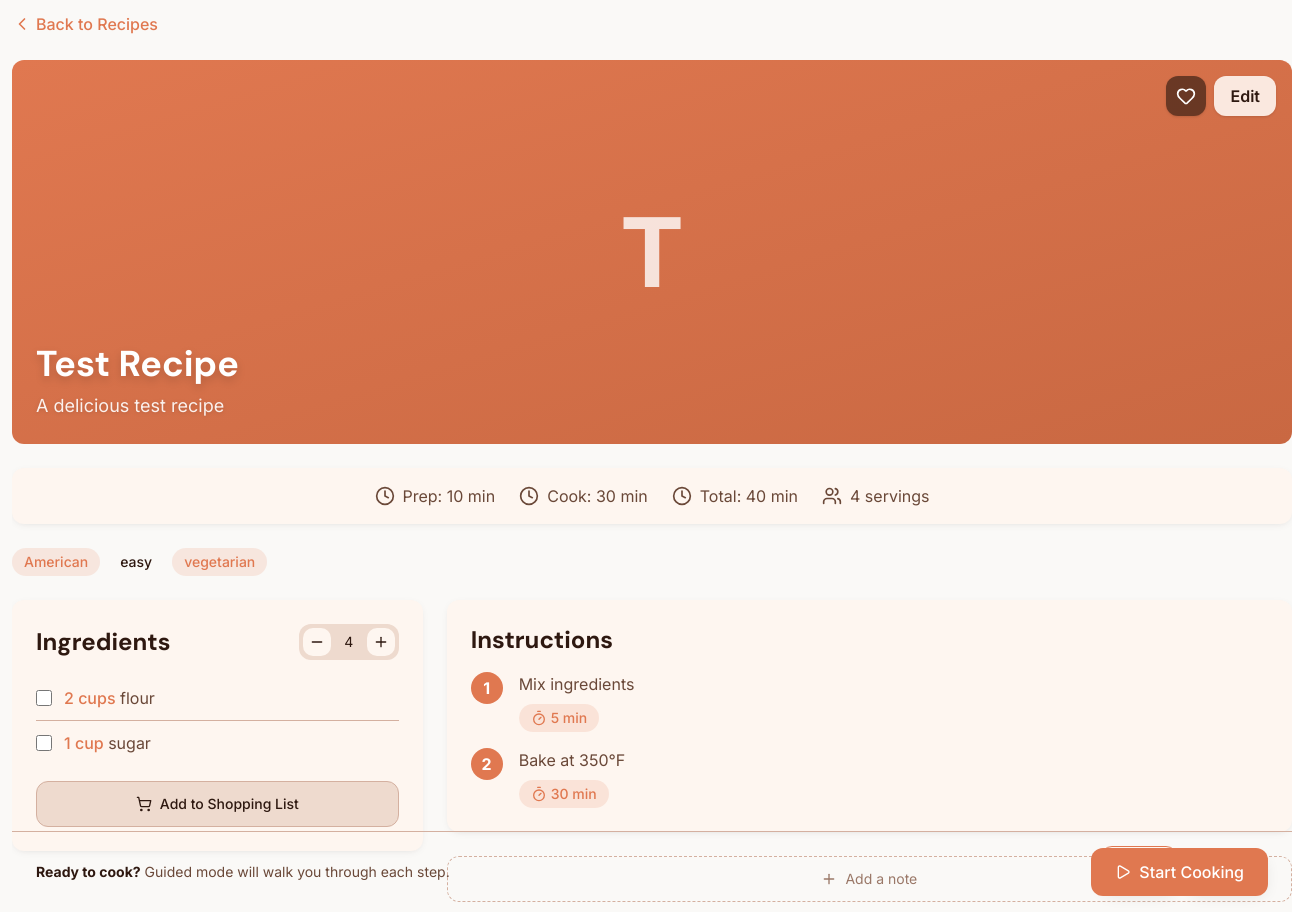
Test: RecipeDetailPage › Servings Adjuster › should increase servings when + button is clicked
Click the button named "increase servings" at x=381, y=642, box [367, 628, 395, 656]
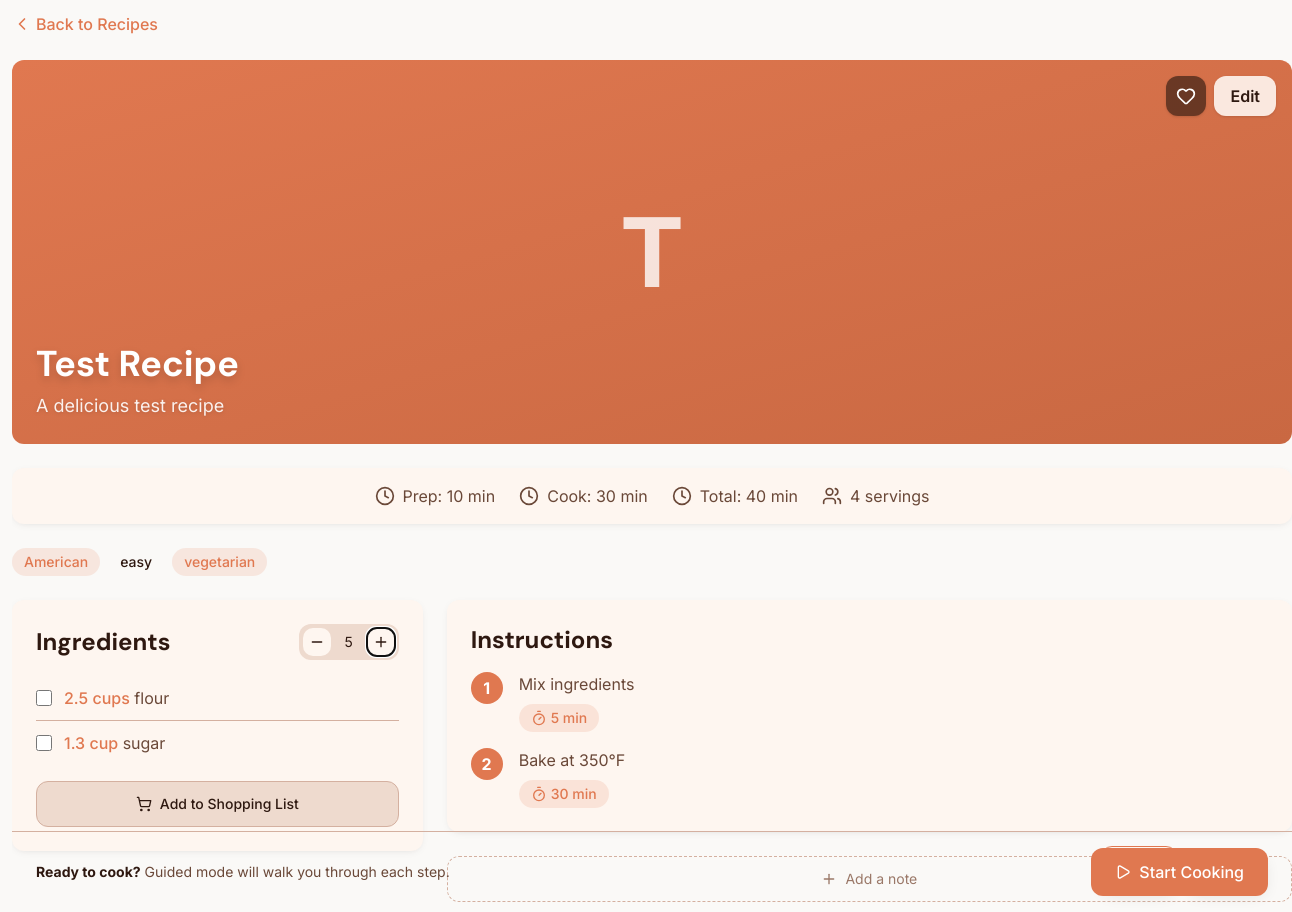
Expected: the text with test id "servings-adjuster-value" reads "5", [344, 633, 353, 650]
